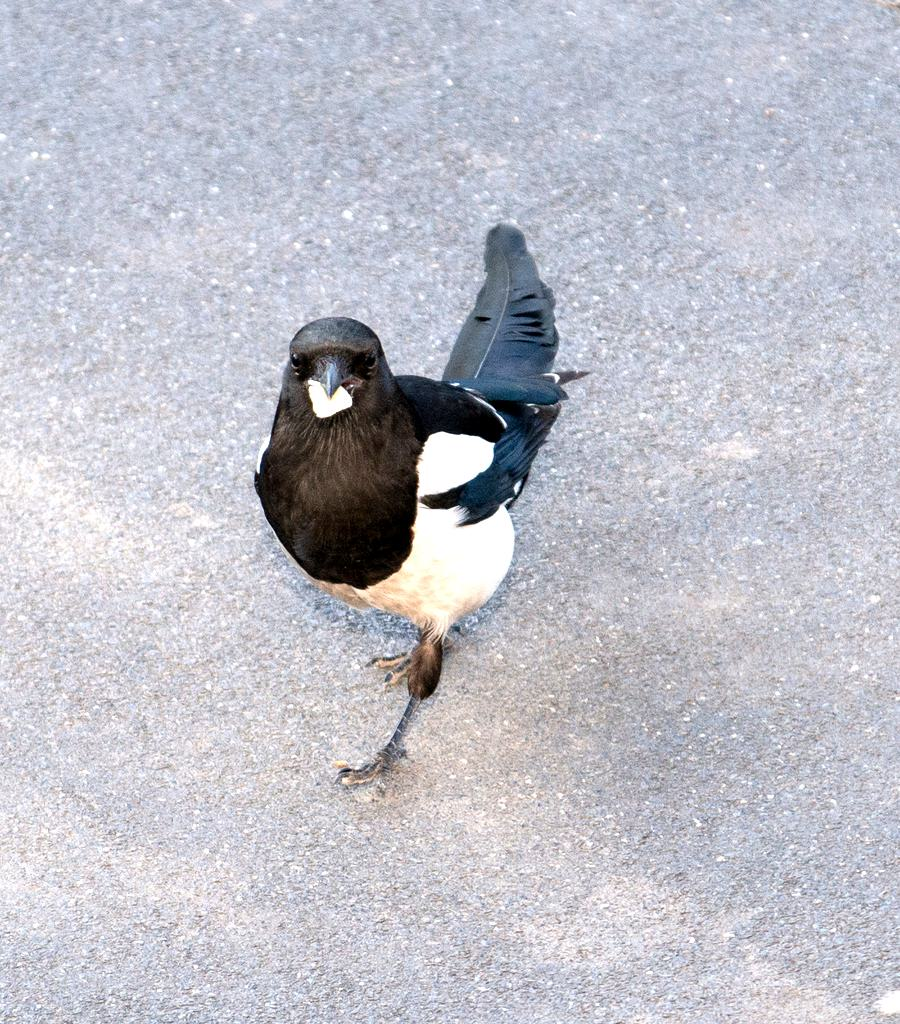PicaPica: (252, 221, 592, 787)
